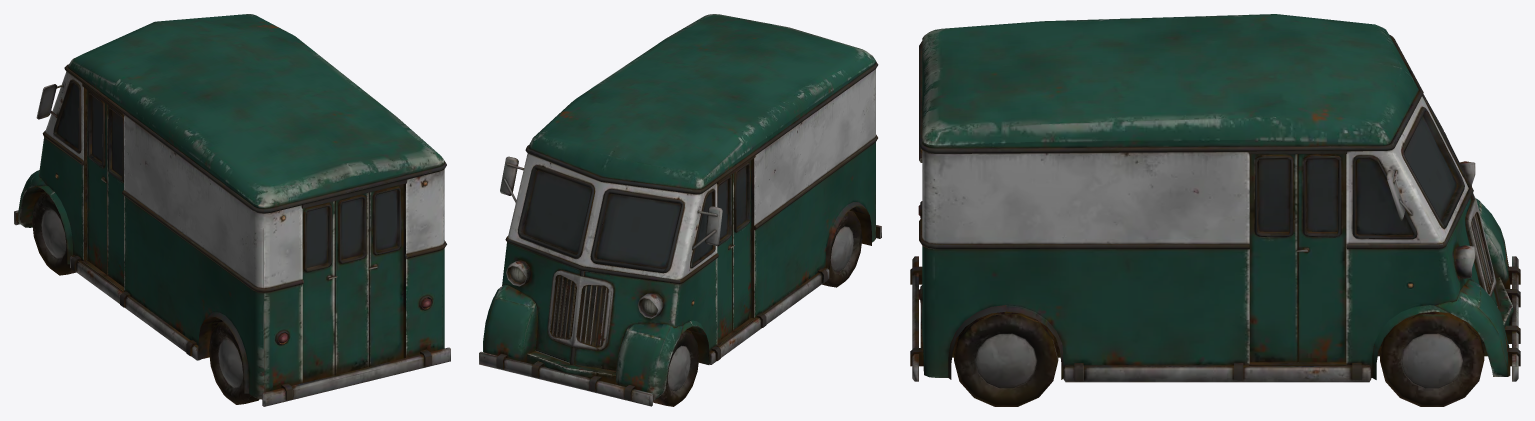
File: van_delivery.glb
3 renders of one model, left to right at view 1: azimuth 30°, elevation 25°; view 2: azimuth 150°, elevation 25°; view 3: azimuth 270°, elevation 25°, orthographic. The views are drawn at different scales.
Visible parts, largest first — view 1: Object_4; view 2: Object_4; view 3: Object_4.
Boxes of the visible parts, x1,y1,x2,y2 form: Object_4: [14, 14, 450, 406]; Object_4: [479, 14, 881, 406]; Object_4: [910, 14, 1520, 406].
Bounding box in the file's own units: 14.34 × 14.42 × 26.52.
Materials: 1 (1 with a texture image).
